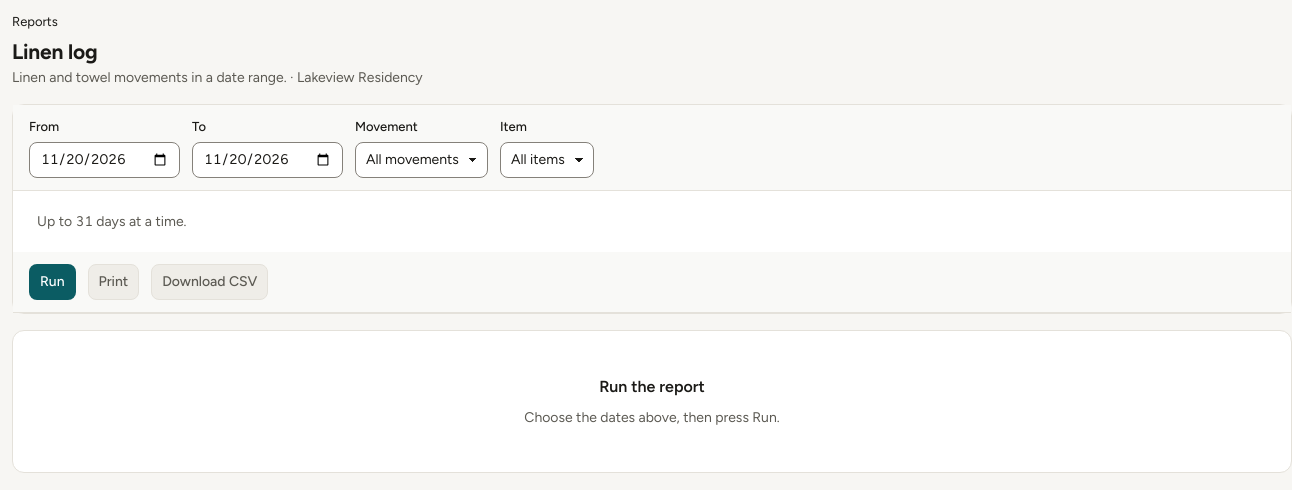
it: ReportRunnerScreen: Part C night audit and housekeeping › the linen log lists the linen items and the movement kinds
Step 1. Select "Sheet" in the dropdown labelled "Item" → (547, 160), box x1=500 y1=142 x2=594 y2=178
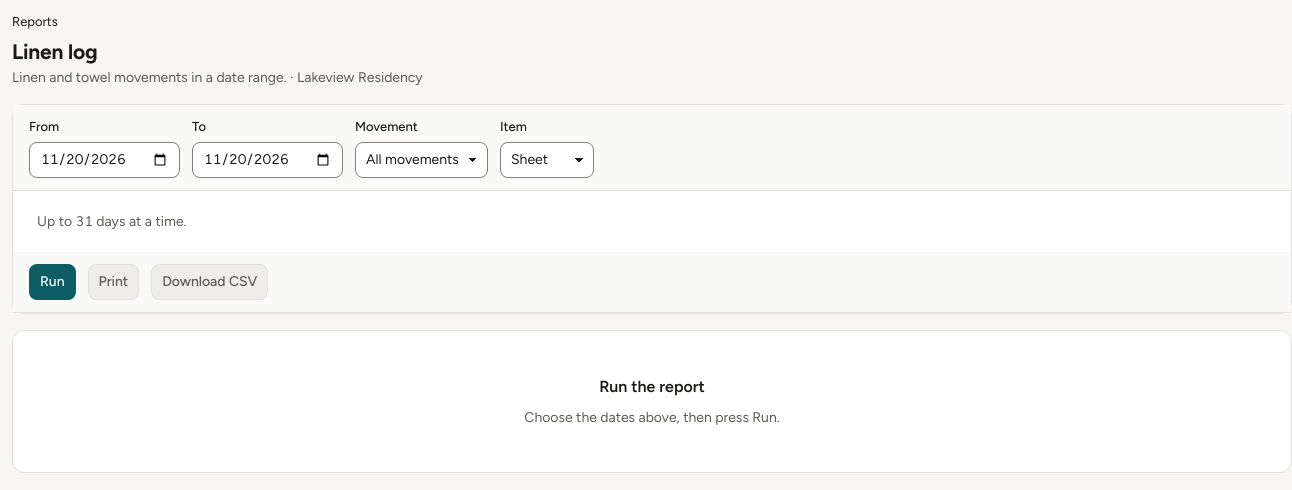
Step 2. Select "Issue" in the dropdown labelled "Movement" → (422, 160), box x1=355 y1=142 x2=488 y2=178
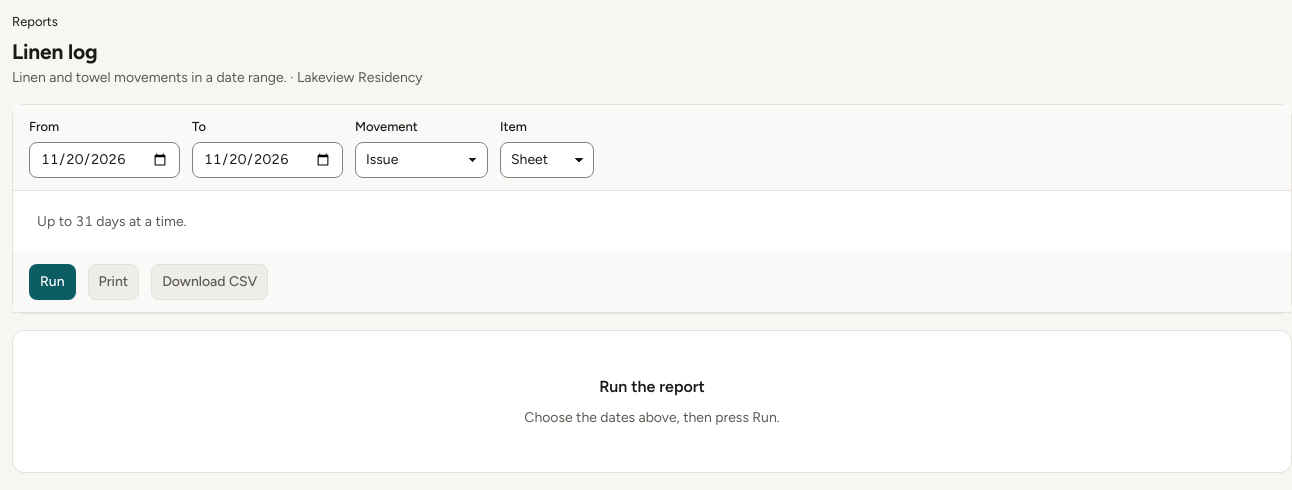
Step 3. Click the button with test id "report-run" → (52, 282), box x1=29 y1=264 x2=76 y2=300
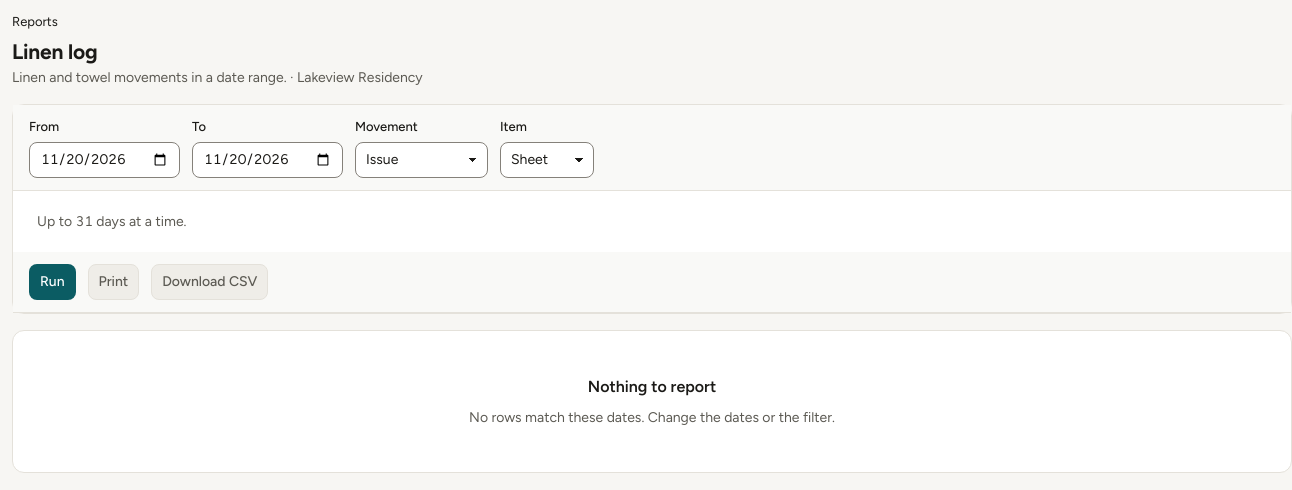
Result: the element with test id "report-empty" is shown at x1=469 y1=377 x2=835 y2=426
